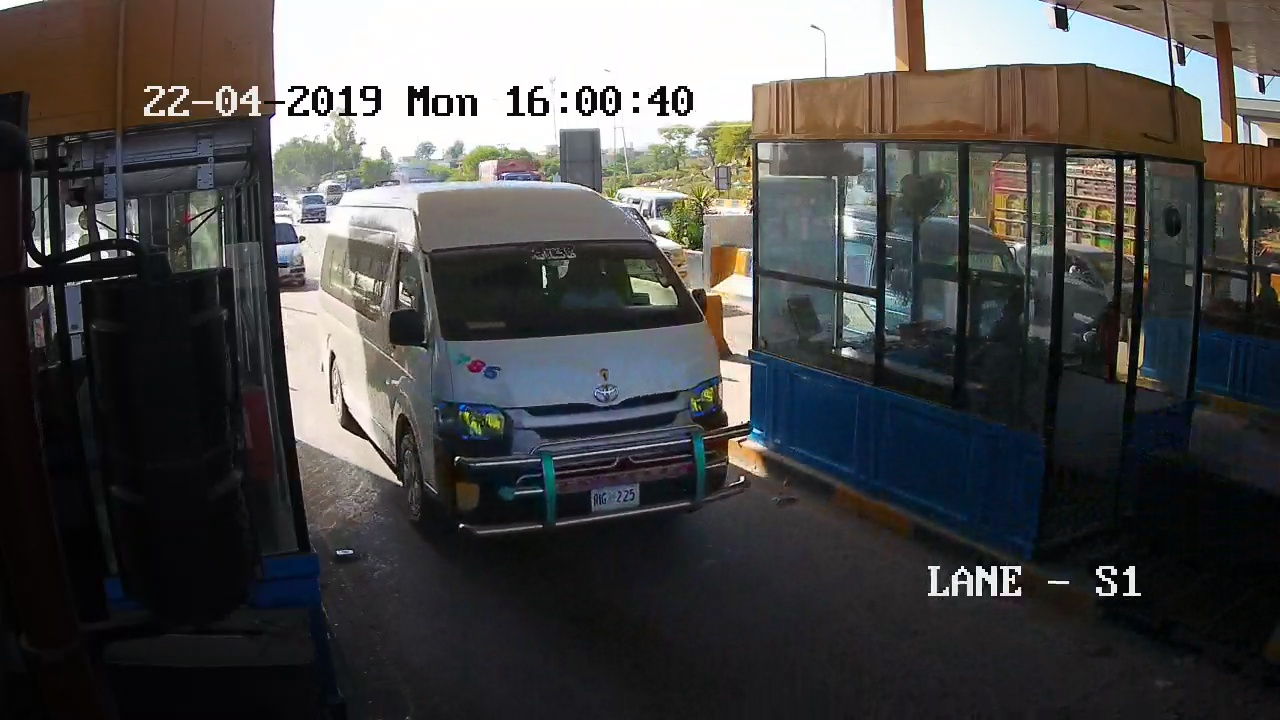car: (316, 183, 775, 602)
